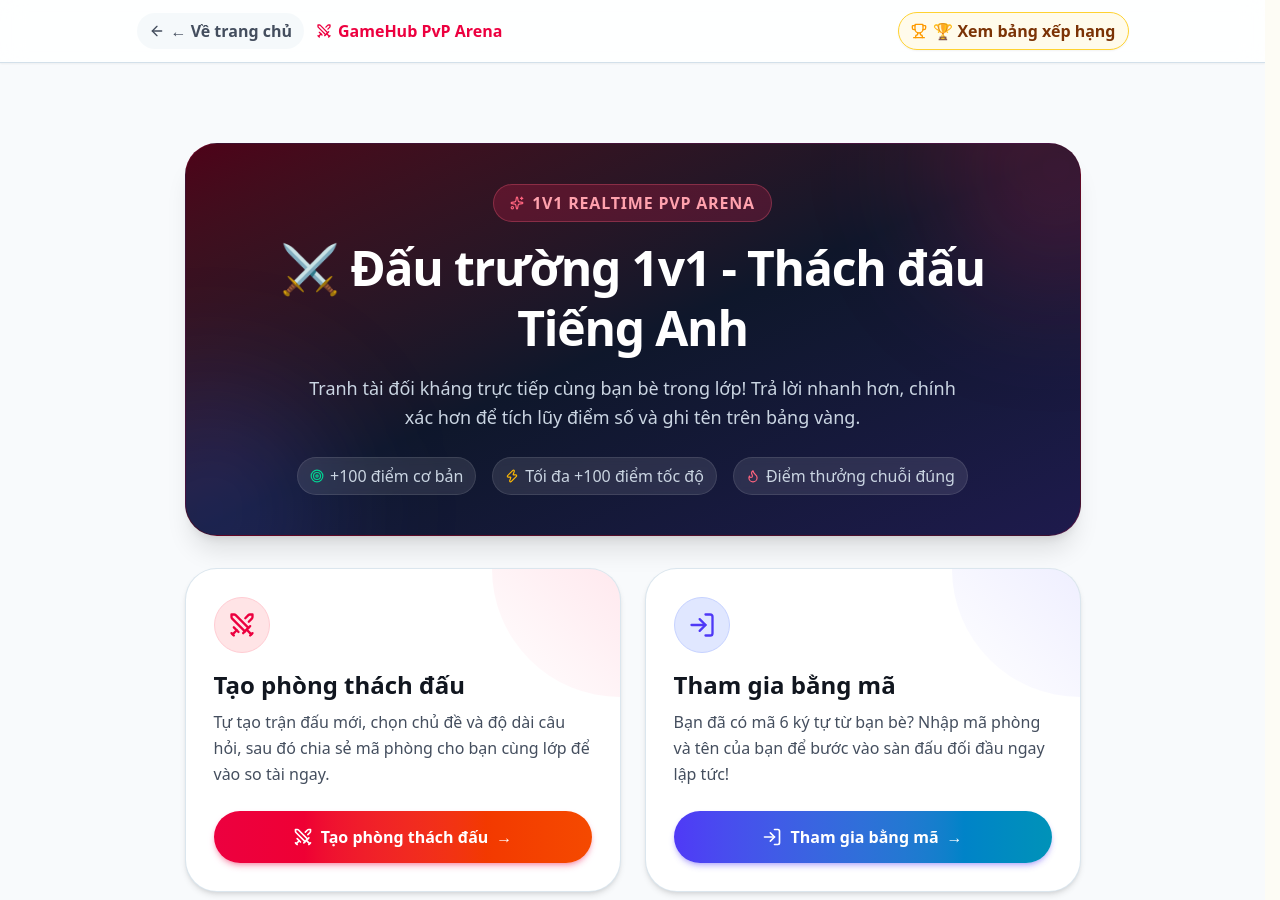
it: DuelHubPage › opens JoinDuelModal when clicking open-join-modal button
Click the button with test id "open-join-modal". click: (862, 836)
box: [674, 810, 1052, 862]
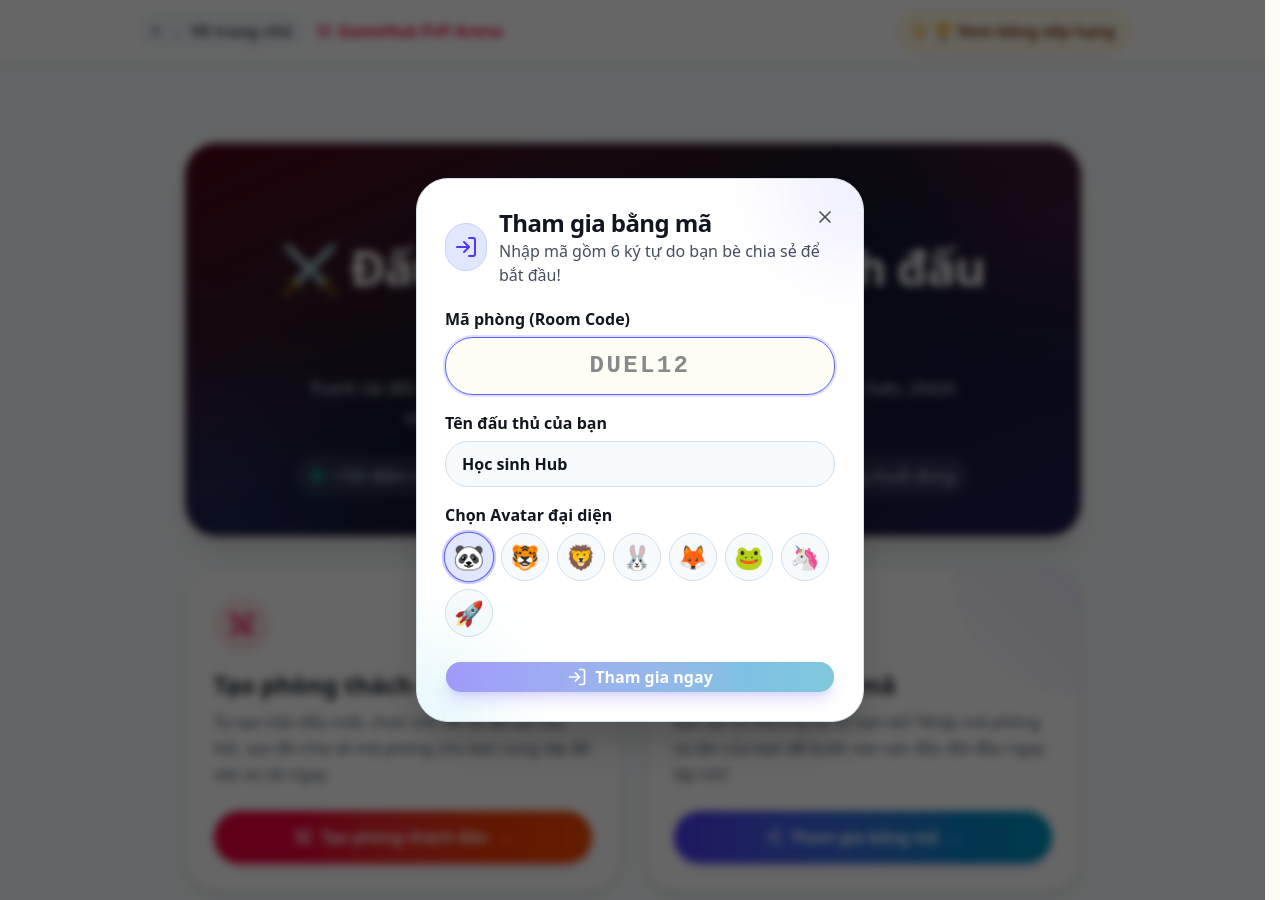
Now the dialog with test id "join-duel-modal" is shown
